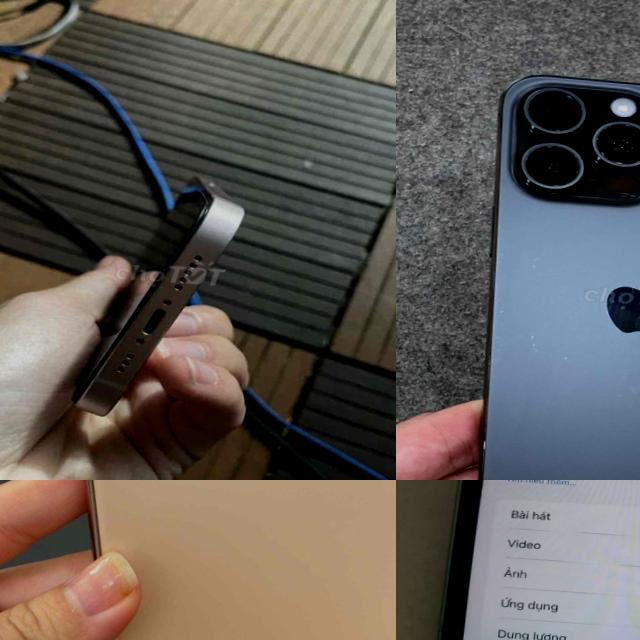gen_11: (0, 480, 396, 640), (433, 480, 640, 640)
gen_12_13: (62, 178, 256, 434)
gen_15: (447, 56, 640, 480)
physical_damage: (614, 188, 638, 198)
scratch: (528, 248, 548, 270), (488, 344, 502, 367), (528, 332, 540, 354), (494, 249, 506, 266), (630, 313, 640, 332), (479, 437, 487, 450), (560, 354, 570, 361), (496, 308, 504, 314)
